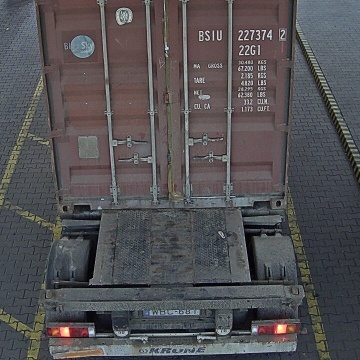serial_id: (199, 28, 286, 40)
